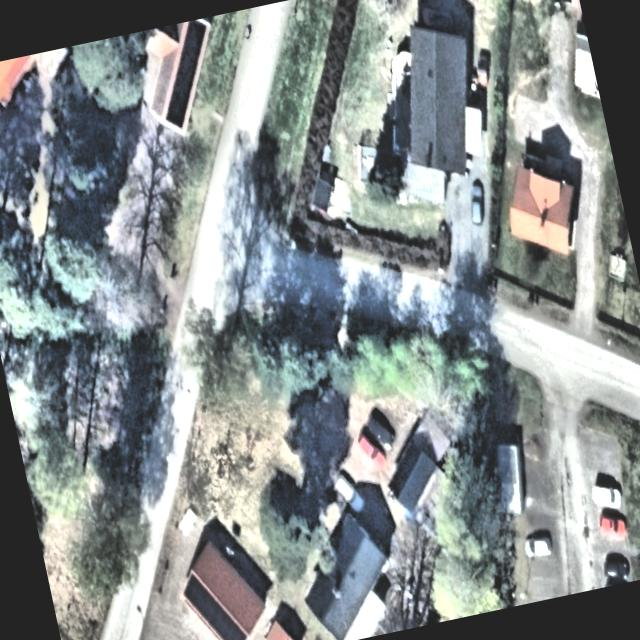roof_pv: (154, 66, 192, 134), (172, 42, 206, 102), (179, 566, 214, 618), (202, 591, 233, 640), (182, 18, 213, 62), (219, 610, 252, 640)
